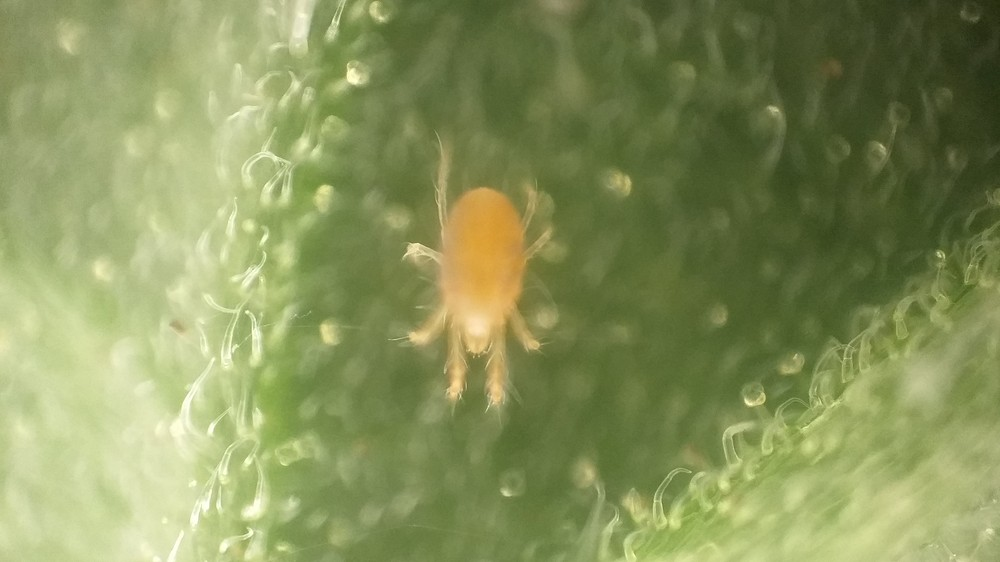Aracnido Rojo: (363, 118, 593, 420)
